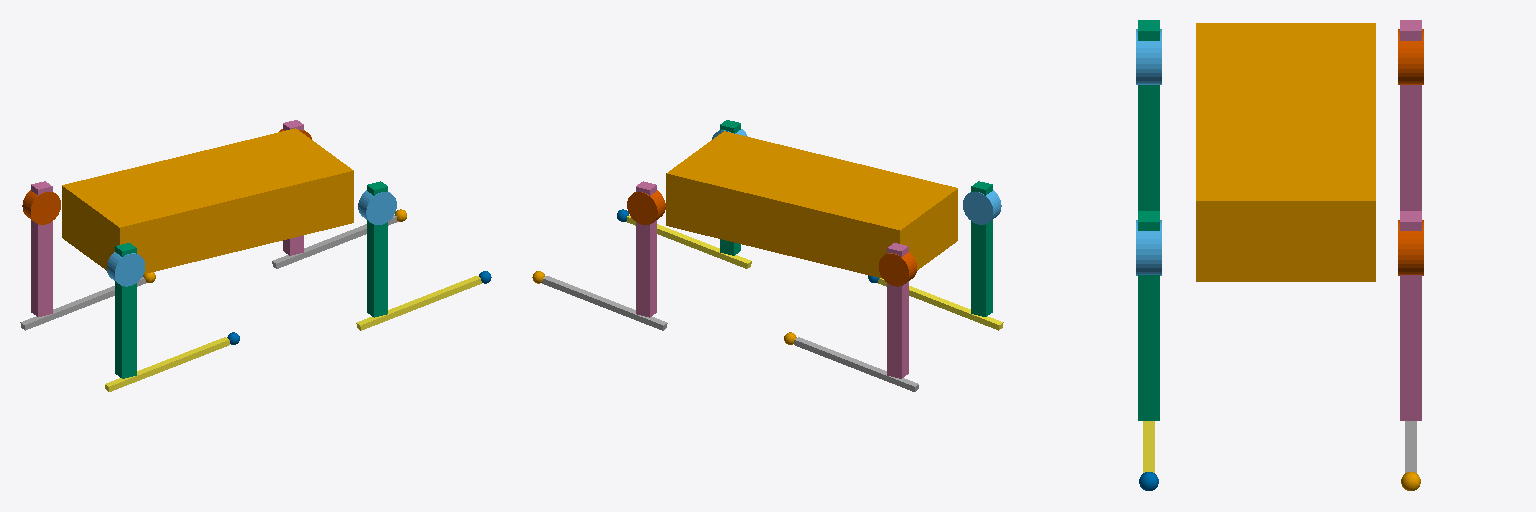
robot.urdf — arclabdog:
<?xml version="1.0" ?>
<robot name="arclabdog" xmlns:xacro="http://www.ros.org/wiki/xacro">
  <link name="trunk">
    <visual>
      <origin rpy="0 0 0" xyz="0 0 0"/>
      <geometry>
        <box size="0.7 0.3 0.15"/>
      </geometry>
    </visual>
    <collision>
      <origin rpy="0 0 0" xyz="0 0 0"/>
      <geometry>
        <box size="0.7 0.3 0.15"/>
      </geometry>
    </collision>
    <inertial>
      <origin xyz="0 0 0" rpy="0 0 0" />
      <mass value="2.0" />
      <inertia ixx="0.08" ixy="0" ixz="0" iyy="0.015" iyz="0" izz="0.022" />
    </inertial>
  </link>
  <joint name="FR_hip_joint" type="revolute">
    <origin rpy="0 0 0" xyz="0.376 -0.1065 0"/>
    <parent link="trunk"/>
    <child link="FR_hip"/>
    <axis xyz="1 0 0"/>
    <dynamics damping="0" friction="0"/>
    <limit effort="44.4" lower="-1.2217304764" upper="1.2217304764" velocity="40"/>
  </joint>
  <link name="FR_hip">
    <visual>
      <origin rpy="1.57079632679 0 0" xyz="0 -0.1215 0"/>
      <geometry>
        <cylinder length="0.0418" radius="0.046"/>
      </geometry>
    </visual>
    <collision>
      <origin rpy="1.57079632679 0 0" xyz="0 -0.1215 0"/>
      <geometry>
        <cylinder length="0.0418" radius="0.046"/>
      </geometry>
    </collision>
    <inertial>
      <origin rpy="0 0 0" xyz="-0.022 -0.015 0"/>
      <mass value="1.993"/>
      <inertia ixx="0.002" ixy="0" ixz="0" iyy="0.004" iyz="0" izz="0.005"/>
    </inertial>
  </link>
  <joint name="FR_thigh_joint" type="revolute">
    <origin rpy="0 0 0" xyz="0 -0.1215 0"/>
    <parent link="FR_hip"/>
    <child link="FR_thigh"/>
    <axis xyz="0 1 0"/>
    <dynamics damping="0" friction="0"/>
    <limit effort="44.4" velocity="40"/>
  </joint>
  <link name="FR_thigh">
    <visual>
      <origin rpy="0 1.57079632679 0" xyz="0 0 -0.125"/>
      <geometry>
        <box size="0.3645 0.0374 0.043"/>
      </geometry>
    </visual>
    <collision>
      <origin rpy="0 1.57079632679 0" xyz="0 0 -0.125"/>
      <geometry>
        <box size="0.3645 0.0374 0.043"/>
      </geometry>
    </collision>
    <inertial>
      <origin rpy="0 0 0" xyz="-0.005 0.003 -0.048"/>
      <mass value="0.639"/>
      <inertia ixx="0.005" ixy="0" ixz="0" iyy="0.005" iyz="0" izz="0"/>
    </inertial>
  </link>
  <joint name="FR_calf_joint" type="revolute">
    <origin rpy="0 0 0" xyz="0 0 -0.3245"/>
    <parent link="FR_thigh"/>
    <child link="FR_calf"/>
    <axis xyz="0 1 0"/>
    <dynamics damping="0" friction="0"/>
    <limit effort="44.4" lower="-2.77507351067" upper="-0.645771823238" velocity="40"/>
  </joint>
  <link name="FR_calf">
    <visual>
      <origin rpy="0 1.57079632679 0" xyz="0 0 -0.125"/>
      <geometry>
        <box size="0.3645 0.0208 0.016"/>
      </geometry>
    </visual>
    <collision>
      <origin rpy="0 1.57079632679 0" xyz="0 0 -0.125"/>
      <geometry>
        <box size="0.3645 0.0208 0.016"/>
      </geometry>
    </collision>
    <inertial>
      <origin rpy="0 0 0" xyz="0.002 0 -0.142"/>
      <mass value="0.207"/>
      <inertia ixx="0.006" ixy="0" ixz="0" iyy="0.006" iyz="0" izz="0"/>
    </inertial>
  </link>
  <joint name="FR_foot_fixed" type="fixed" dont_collapse="true">
    <origin rpy="0 0 0" xyz="0 0 -0.3245"/>
    <parent link="FR_calf"/>
    <child link="FR_foot"/>
  </joint>
  <link name="FR_foot">
    <visual>
      <origin rpy="0 0 0" xyz="0 0 0"/>
      <geometry>
        <sphere radius="0.0165"/>
      </geometry>
      <material name="green"/>
    </visual>
    <collision>
      <origin rpy="0 0 0" xyz="0 0 0"/>
      <geometry>
        <sphere radius="0.0165"/>
      </geometry>
    </collision>
    <inertial>
      <mass value="0.06"/>
      <inertia ixx="0" ixy="0" ixz="0" iyy="0" iyz="0" izz="0"/>
    </inertial>
  </link>
  <joint name="FL_hip_joint" type="revolute">
    <origin rpy="0 0 0" xyz="0.376 0.1065 0"/>
    <parent link="trunk"/>
    <child link="FL_hip"/>
    <axis xyz="1 0 0"/>
    <dynamics damping="0" friction="0"/>
    <limit effort="44.4" lower="-1.2217304764" upper="1.2217304764" velocity="40"/>
  </joint>
  <link name="FL_hip">
    <visual>
      <origin rpy="1.57079632679 0 0" xyz="0 0.1015 0"/>
      <geometry>
        <cylinder length="0.0418" radius="0.046"/>
      </geometry>
    </visual>
    <collision>
      <origin rpy="1.57079632679 0 0" xyz="0 0.1015 0"/>
      <geometry>
        <cylinder length="0.0418" radius="0.046"/>
      </geometry>
    </collision>
    <inertial>
      <origin rpy="0 0 0" xyz="-0.022 0.015 0"/>
      <mass value="1.993"/>
      <inertia ixx="0.002" ixy="0" ixz="0" iyy="0.004" iyz="0" izz="0.005"/>
    </inertial>
  </link>
  <joint name="FL_thigh_joint" type="revolute">
    <origin rpy="0 0 0" xyz="0 0.1015 0"/>
    <parent link="FL_hip"/>
    <child link="FL_thigh"/>
    <axis xyz="0 1 0"/>
    <dynamics damping="0" friction="0"/>
    <limit effort="44.4" velocity="40"/>
  </joint>
  <link name="FL_thigh">
    <visual>
      <origin rpy="0 1.57079632679 0" xyz="0 0 -0.125"/>
      <geometry>
        <box size="0.3645 0.0374 0.043"/>
      </geometry>
    </visual>
    <collision>
      <origin rpy="0 1.57079632679 0" xyz="0 0 -0.125"/>
      <geometry>
        <box size="0.3645 0.0374 0.043"/>
      </geometry>
    </collision>
    <inertial>
      <origin rpy="0 0 0" xyz="-0.005 -0.003 -0.048"/>
      <mass value="0.639"/>
      <inertia ixx="0.005" ixy="0" ixz="0" iyy="0.005" iyz="0" izz="0"/>
    </inertial>
  </link>
  <joint name="FL_calf_joint" type="revolute">
    <origin rpy="0 0 0" xyz="0 0 -0.3245"/>
    <parent link="FL_thigh"/>
    <child link="FL_calf"/>
    <axis xyz="0 1 0"/>
    <dynamics damping="0" friction="0"/>
    <limit effort="44.4" lower="-2.77507351067" upper="-0.645771823238" velocity="40"/>
  </joint>
  <link name="FL_calf">
    <visual>
      <origin rpy="0 1.57079632679 0" xyz="0 0 -0.125"/>
      <geometry>
        <box size="0.3645 0.0208 0.016"/>
      </geometry>
    </visual>
    <collision>
      <origin rpy="0 1.57079632679 0" xyz="0 0 -0.125"/>
      <geometry>
        <box size="0.3645 0.0208 0.016"/>
      </geometry>
    </collision>
    <inertial>
      <origin rpy="0 0 0" xyz="0.002 0 -0.142"/>
      <mass value="0.207"/>
      <inertia ixx="0.006" ixy="0" ixz="0" iyy="0.006" iyz="0" izz="0"/>
    </inertial>
  </link>
  <joint name="FL_foot_fixed" type="fixed" dont_collapse="true">
    <origin rpy="0 0 0" xyz="0 0 -0.3245"/>
    <parent link="FL_calf"/>
    <child link="FL_foot"/>
  </joint>
  <link name="FL_foot">
    <visual>
      <origin rpy="0 0 0" xyz="0 0 0"/>
      <geometry>
        <sphere radius="0.0165"/>
      </geometry>
      <material name="green"/>
    </visual>
    <collision>
      <origin rpy="0 0 0" xyz="0 0 0"/>
      <geometry>
        <sphere radius="0.0165"/>
      </geometry>
    </collision>
    <inertial>
      <mass value="0.06"/>
      <inertia ixx="0" ixy="0" ixz="0" iyy="0" iyz="0" izz="0"/>
    </inertial>
  </link>
  <joint name="RR_hip_joint" type="revolute">
    <origin rpy="0 0 0" xyz="-0.376 -0.1065 0"/>
    <parent link="trunk"/>
    <child link="RR_hip"/>
    <axis xyz="1 0 0"/>
    <dynamics damping="0" friction="0"/>
    <limit effort="44.4" lower="-1.2217304764" upper="1.2217304764" velocity="40"/>
  </joint>
  <link name="RR_hip">
    <visual>
      <origin rpy="1.57079632679 0 0" xyz="0 -0.1215 0"/>
      <geometry>
        <cylinder length="0.0418" radius="0.046"/>
      </geometry>
    </visual>
    <collision>
      <origin rpy="1.57079632679 0 0" xyz="0 -0.1215 0"/>
      <geometry>
        <cylinder length="0.0418" radius="0.046"/>
      </geometry>
    </collision>
    <inertial>
      <origin rpy="0 0 0" xyz="0.022 -0.015 0"/>
      <mass value="1.993"/>
      <inertia ixx="0.002" ixy="0" ixz="0" iyy="0.004" iyz="0" izz="0.005"/>
    </inertial>
  </link>
  <joint name="RR_thigh_joint" type="revolute">
    <origin rpy="0 0 0" xyz="0 -0.1215 0"/>
    <parent link="RR_hip"/>
    <child link="RR_thigh"/>
    <axis xyz="0 1 0"/>
    <dynamics damping="0" friction="0"/>
    <limit effort="44.4" velocity="40"/>
  </joint>
  <link name="RR_thigh">
    <visual>
      <origin rpy="0 1.57079632679 0" xyz="0 0 -0.125"/>
      <geometry>
        <box size="0.3645 0.0374 0.043"/>
      </geometry>
    </visual>
    <collision>
      <origin rpy="0 1.57079632679 0" xyz="0 0 -0.125"/>
      <geometry>
        <box size="0.3645 0.0374 0.043"/>
      </geometry>
    </collision>
    <inertial>
      <origin rpy="0 0 0" xyz="-0.005 0.003 -0.048"/>
      <mass value="0.639"/>
      <inertia ixx="0.005" ixy="0" ixz="0" iyy="0.005" iyz="0" izz="0"/>
    </inertial>
  </link>
  <joint name="RR_calf_joint" type="revolute">
    <origin rpy="0 0 0" xyz="0 0 -0.3245"/>
    <parent link="RR_thigh"/>
    <child link="RR_calf"/>
    <axis xyz="0 1 0"/>
    <dynamics damping="0" friction="0"/>
    <limit effort="44.4" lower="-2.77507351067" upper="-0.645771823238" velocity="40"/>
  </joint>
  <link name="RR_calf">
    <visual>
      <origin rpy="0 1.57079632679 0" xyz="0 0 -0.125"/>
      <geometry>
        <box size="0.3645 0.0208 0.016"/>
      </geometry>
    </visual>
    <collision>
      <origin rpy="0 1.57079632679 0" xyz="0 0 -0.125"/>
      <geometry>
        <box size="0.3645 0.0208 0.016"/>
      </geometry>
    </collision>
    <inertial>
      <origin rpy="0 0 0" xyz="0.002 0 -0.142"/>
      <mass value="0.207"/>
      <inertia ixx="0.006" ixy="0" ixz="0" iyy="0.006" iyz="0" izz="0"/>
    </inertial>
  </link>
  <joint name="RR_foot_fixed" type="fixed" dont_collapse="true">
    <origin rpy="0 0 0" xyz="0 0 -0.3245"/>
    <parent link="RR_calf"/>
    <child link="RR_foot"/>
  </joint>
  <link name="RR_foot">
    <visual>
      <origin rpy="0 0 0" xyz="0 0 0"/>
      <geometry>
        <sphere radius="0.0165"/>
      </geometry>
      <material name="green"/>
    </visual>
    <collision>
      <origin rpy="0 0 0" xyz="0 0 0"/>
      <geometry>
        <sphere radius="0.0165"/>
      </geometry>
    </collision>
    <inertial>
      <mass value="0.06"/>
      <inertia ixx="0" ixy="0" ixz="0" iyy="0" iyz="0" izz="0"/>
    </inertial>
  </link>
  <joint name="RL_hip_joint" type="revolute">
    <origin rpy="0 0 0" xyz="-0.376 0.1065 0"/>
    <parent link="trunk"/>
    <child link="RL_hip"/>
    <axis xyz="1 0 0"/>
    <dynamics damping="0" friction="0"/>
    <limit effort="44.4" lower="-1.2217304764" upper="1.2217304764" velocity="40"/>
  </joint>
  <link name="RL_hip">
    <visual>
      <origin rpy="1.57079632679 0 0" xyz="0 0.1015 0"/>
      <geometry>
        <cylinder length="0.0418" radius="0.046"/>
      </geometry>
    </visual>
    <collision>
      <origin rpy="1.57079632679 0 0" xyz="0 0.1015 0"/>
      <geometry>
        <cylinder length="0.0418" radius="0.046"/>
      </geometry>
    </collision>
    <inertial>
      <origin rpy="0 0 0" xyz="0.022 0.015 0"/>
      <mass value="1.993"/>
      <inertia ixx="0.002" ixy="0" ixz="0" iyy="0.004" iyz="0" izz="0.005"/>
    </inertial>
  </link>
  <joint name="RL_thigh_joint" type="revolute">
    <origin rpy="0 0 0" xyz="0 0.1015 0"/>
    <parent link="RL_hip"/>
    <child link="RL_thigh"/>
    <axis xyz="0 1 0"/>
    <dynamics damping="0" friction="0"/>
    <limit effort="44.4" velocity="40"/>
  </joint>
  <link name="RL_thigh">
    <visual>
      <origin rpy="0 1.57079632679 0" xyz="0 0 -0.125"/>
      <geometry>
        <box size="0.3645 0.0374 0.043"/>
      </geometry>
    </visual>
    <collision>
      <origin rpy="0 1.57079632679 0" xyz="0 0 -0.125"/>
      <geometry>
        <box size="0.3645 0.0374 0.043"/>
      </geometry>
    </collision>
    <inertial>
      <origin rpy="0 0 0" xyz="-0.005 -0.003 -0.048"/>
      <mass value="0.639"/>
      <inertia ixx="0.005" ixy="0" ixz="0" iyy="0.005" iyz="0" izz="0"/>
    </inertial>
  </link>
  <joint name="RL_calf_joint" type="revolute">
    <origin rpy="0 0 0" xyz="0 0 -0.3245"/>
    <parent link="RL_thigh"/>
    <child link="RL_calf"/>
    <axis xyz="0 1 0"/>
    <dynamics damping="0" friction="0"/>
    <limit effort="44.4" lower="-2.77507351067" upper="-0.645771823238" velocity="40"/>
  </joint>
  <link name="RL_calf">
    <visual>
      <origin rpy="0 1.57079632679 0" xyz="0 0 -0.125"/>
      <geometry>
        <box size="0.3645 0.0208 0.016"/>
      </geometry>
    </visual>
    <collision>
      <origin rpy="0 1.57079632679 0" xyz="0 0 -0.125"/>
      <geometry>
        <box size="0.3645 0.0208 0.016"/>
      </geometry>
    </collision>
    <inertial>
      <origin rpy="0 0 0" xyz="0.002 0 -0.142"/>
      <mass value="0.207"/>
      <inertia ixx="0.006" ixy="0" ixz="0" iyy="0.006" iyz="0" izz="0"/>
    </inertial>
  </link>
  <joint name="RL_foot_fixed" type="fixed" dont_collapse="true">
    <origin rpy="0 0 0" xyz="0 0 -0.3245"/>
    <parent link="RL_calf"/>
    <child link="RL_foot"/>
  </joint>
  <link name="RL_foot">
    <visual>
      <origin rpy="0 0 0" xyz="0 0 0"/>
      <geometry>
        <sphere radius="0.0165"/>
      </geometry>
      <material name="green"/>
    </visual>
    <collision>
      <origin rpy="0 0 0" xyz="0 0 0"/>
      <geometry>
        <sphere radius="0.0165"/>
      </geometry>
    </collision>
    <inertial>
      <mass value="0.06"/>
      <inertia ixx="0" ixy="0" ixz="0" iyy="0" iyz="0" izz="0"/>
    </inertial>
  </link>
</robot>

--- Render facts (derived) ---
Views: 3 orthographic renders of the robot side by side, from view 1: azimuth 30°, elevation 25°; view 2: azimuth 150°, elevation 25°; view 3: azimuth 270°, elevation 25°.
Robot: arclabdog — 17 links, 16 joints (12 revolute, 4 fixed); root link trunk; default pose: joints at zero except 4 at the middle of their limits (FR_calf_joint = -1.71, FL_calf_joint = -1.71, RR_calf_joint = -1.71, RL_calf_joint = -1.71).
Links seen in each view (by area): view 1: trunk, RL_thigh, RR_thigh, FR_thigh, FR_calf, RR_calf, FR_hip, RR_hip, RL_hip, FL_calf, RL_calf; view 2: trunk, RR_thigh, RL_thigh, FL_thigh, FL_calf, RL_calf, FL_hip, RR_hip, RL_hip, FR_calf, RR_calf; view 3: trunk, FR_thigh, FL_thigh, RR_thigh, RL_thigh, FR_hip, FL_hip, RR_hip, RL_hip, FR_calf, FL_calf.
Link boxes in pixels (x1,y1,x2,y2): trunk: (62,128,353,273); RL_thigh: (31,181,52,316); RR_thigh: (115,243,136,378); FR_thigh: (367,181,387,317); FR_calf: (356,276,481,330); RR_calf: (105,337,229,391); FR_hip: (358,190,396,224); RR_hip: (107,252,144,286); RL_hip: (22,190,60,224); FL_calf: (272,215,397,268); RL_calf: (20,277,145,330); trunk: (666,131,957,278); RR_thigh: (971,181,992,316); RL_thigh: (887,243,908,378); FL_thigh: (636,181,656,317); FL_calf: (542,276,667,330); RL_calf: (794,337,918,391); FL_hip: (627,190,665,224); RR_hip: (963,190,1001,224); RL_hip: (879,252,916,286); FR_calf: (626,215,751,268); RR_calf: (878,278,1003,330); trunk: (1196,23,1375,281); FR_thigh: (1138,211,1159,420); FL_thigh: (1400,211,1421,420); RR_thigh: (1138,20,1159,210); RL_thigh: (1400,20,1421,210); FR_hip: (1136,220,1161,275); FL_hip: (1398,220,1423,275); RR_hip: (1136,29,1161,84); RL_hip: (1398,29,1423,84); FR_calf: (1143,421,1154,472); FL_calf: (1405,421,1416,472).
Bounding box of the posed robot: 1.15 × 0.4778 × 0.4154 m (x, y, z).
Geometry: primitives only (box / cylinder / sphere), no mesh files.